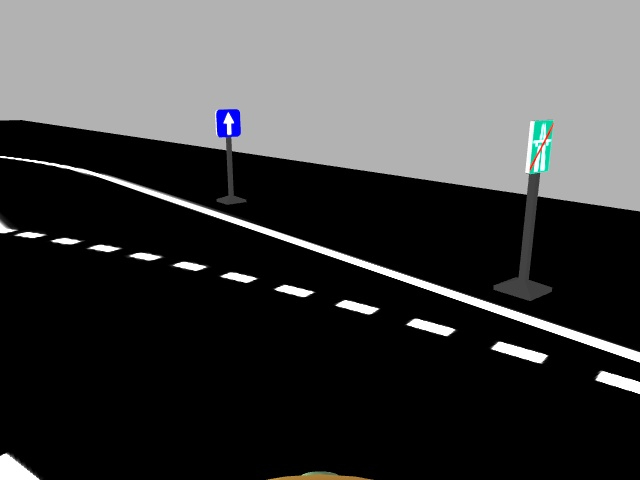HighwayExit: (520, 113, 558, 176)
OneWay: (212, 107, 245, 139)
